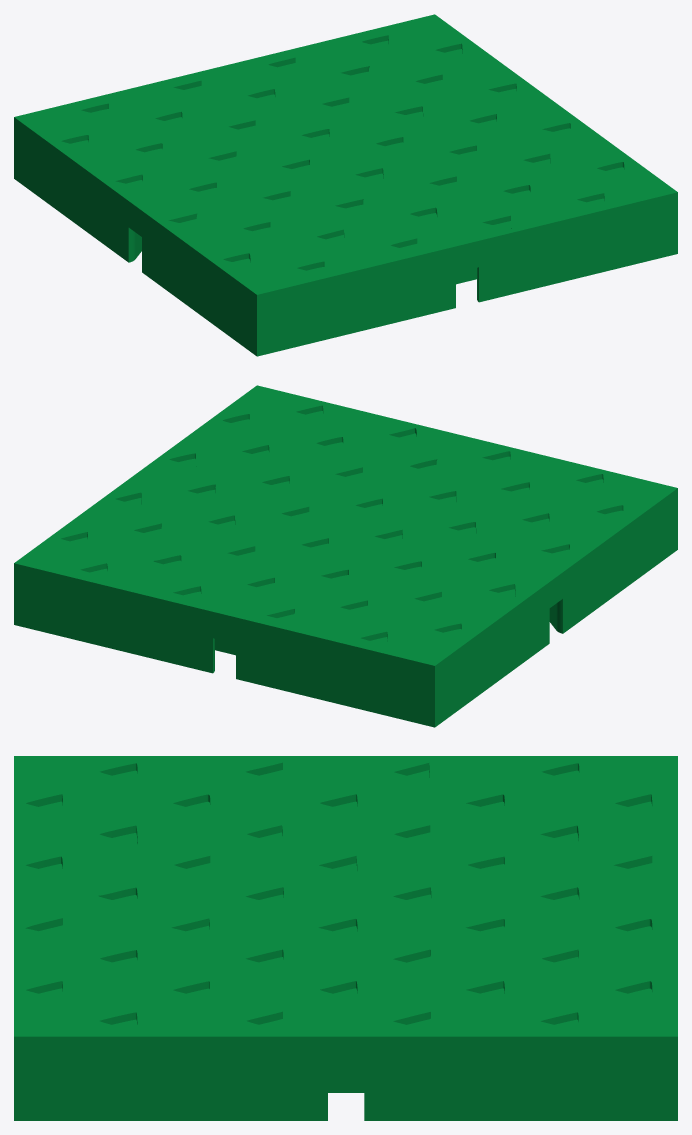
Rendered from 5x5 Grass.obj.
3 renders of one model, top to bottom at view 1: azimuth 30°, elevation 25°; view 2: azimuth 150°, elevation 25°; view 3: azimuth 270°, elevation 25°, orthographic. The views are drawn at different scales.
Parts seen in each view (by area): view 1: Körper1; view 2: Körper1; view 3: Körper1.
Boxes of the visible parts, left/top/right/bottom form: Körper1: left=14, top=14, right=677, bottom=356; Körper1: left=14, top=385, right=677, bottom=727; Körper1: left=14, top=756, right=677, bottom=1120.
Bounding box in the file's own units: 50 × 7 × 50.
